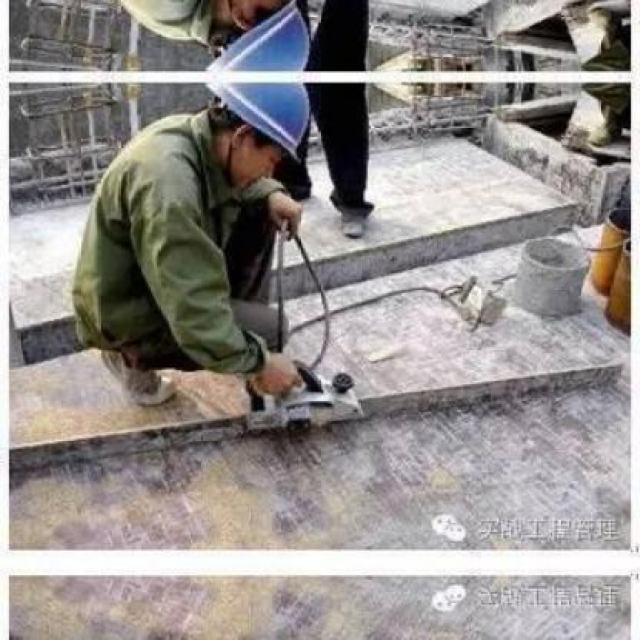helmet: (196, 78, 324, 190), (196, 0, 324, 77)
